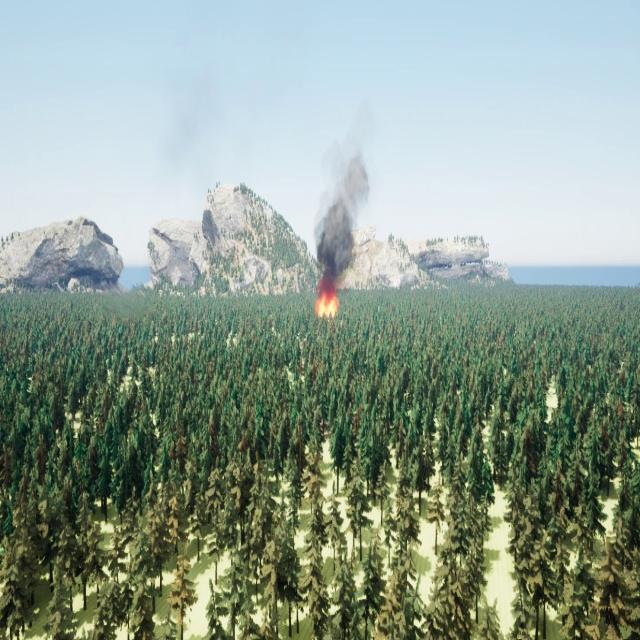fire: (314, 284, 344, 322)
smoke: (314, 143, 372, 286)
